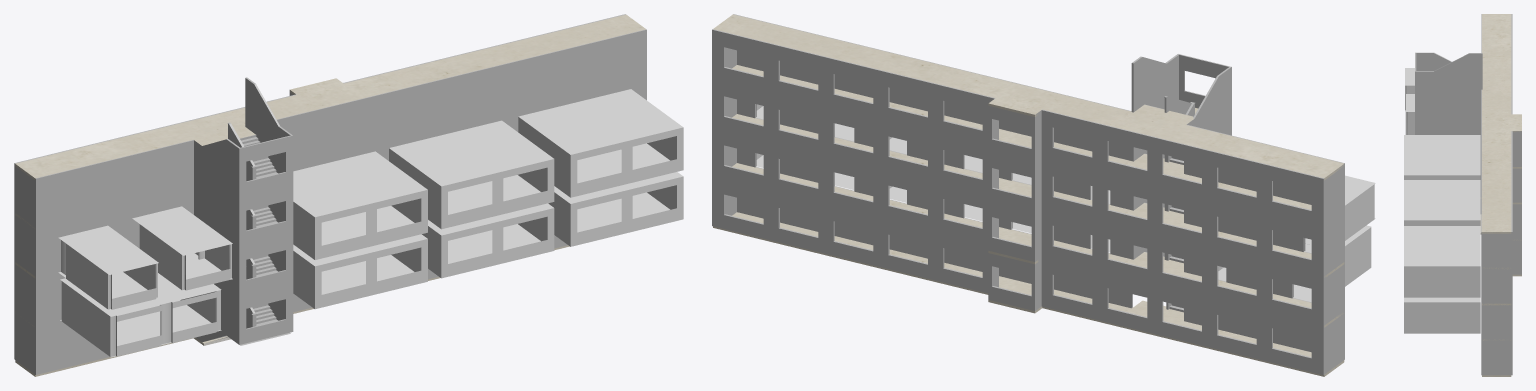
Rendered from CORRIDOR01.fbx.
3 renders of one model, left to right at view 1: azimuth 30°, elevation 25°; view 2: azimuth 150°, elevation 25°; view 3: azimuth 270°, elevation 25°, orthographic. The views are drawn at different scales.
Parts seen in each view (by area): view 1: wall_2, floor_1, shadow.002, shadow.001, wall, shadow, wall_1, shadow.005, shadow.003, shadow.004, wall_3, wall.001 (+13 smaller); view 2: wall_2, wall_1, wall, wall_3, floor_1, floor_2, floor_3, floor, floor_4, wall.001, wall_men, stair_1 (+1 smaller); view 3: floor_1, shadow.002, wall_2, wall, shadow.001, shadow, shadow.003, wall_3, wall_1, wall_women, ceiling, ceiling.001 (+1 smaller).
Boxes of the visible parts, bbox=[...] form: wall_2: bbox=[14, 14, 646, 227]; floor_1: bbox=[15, 14, 645, 179]; shadow.002: bbox=[518, 89, 683, 197]; shadow.001: bbox=[389, 120, 554, 229]; wall: bbox=[14, 79, 646, 276]; shadow: bbox=[293, 151, 427, 259]; wall_1: bbox=[14, 235, 567, 374]; shadow.005: bbox=[293, 234, 427, 309]; shadow.003: bbox=[548, 172, 683, 246]; shadow.004: bbox=[422, 203, 554, 278]; wall_3: bbox=[14, 234, 293, 325]; wall.001: bbox=[61, 281, 220, 356]; wall_2: bbox=[712, 14, 1344, 227]; wall_1: bbox=[712, 167, 1344, 375]; wall: bbox=[712, 79, 1344, 276]; wall_3: bbox=[712, 117, 1344, 325]; floor_1: bbox=[713, 14, 1344, 180]; floor_2: bbox=[713, 212, 1344, 376]; floor_3: bbox=[732, 163, 1343, 327]; floor: bbox=[732, 114, 1344, 277]; floor_4: bbox=[732, 65, 1311, 209]; wall.001: bbox=[1218, 227, 1371, 297]; wall_men: bbox=[1304, 184, 1374, 250]; stair_1: bbox=[1143, 96, 1197, 164]; floor_1: bbox=[1482, 14, 1521, 233]; shadow.002: bbox=[1404, 226, 1480, 297]; wall_2: bbox=[1415, 14, 1521, 267]; wall: bbox=[1415, 89, 1521, 303]; shadow.001: bbox=[1404, 180, 1480, 225]; shadow: bbox=[1404, 135, 1480, 179]; shadow.003: bbox=[1404, 297, 1480, 333]; wall_3: bbox=[1451, 125, 1521, 339]; wall_1: bbox=[1480, 161, 1521, 375]; wall_women: bbox=[1406, 112, 1414, 134]; ceiling: bbox=[1405, 68, 1414, 85]; ceiling.001: bbox=[1406, 94, 1414, 111].
Size of the model in its own units: 5518 by 2136 by 1262.
